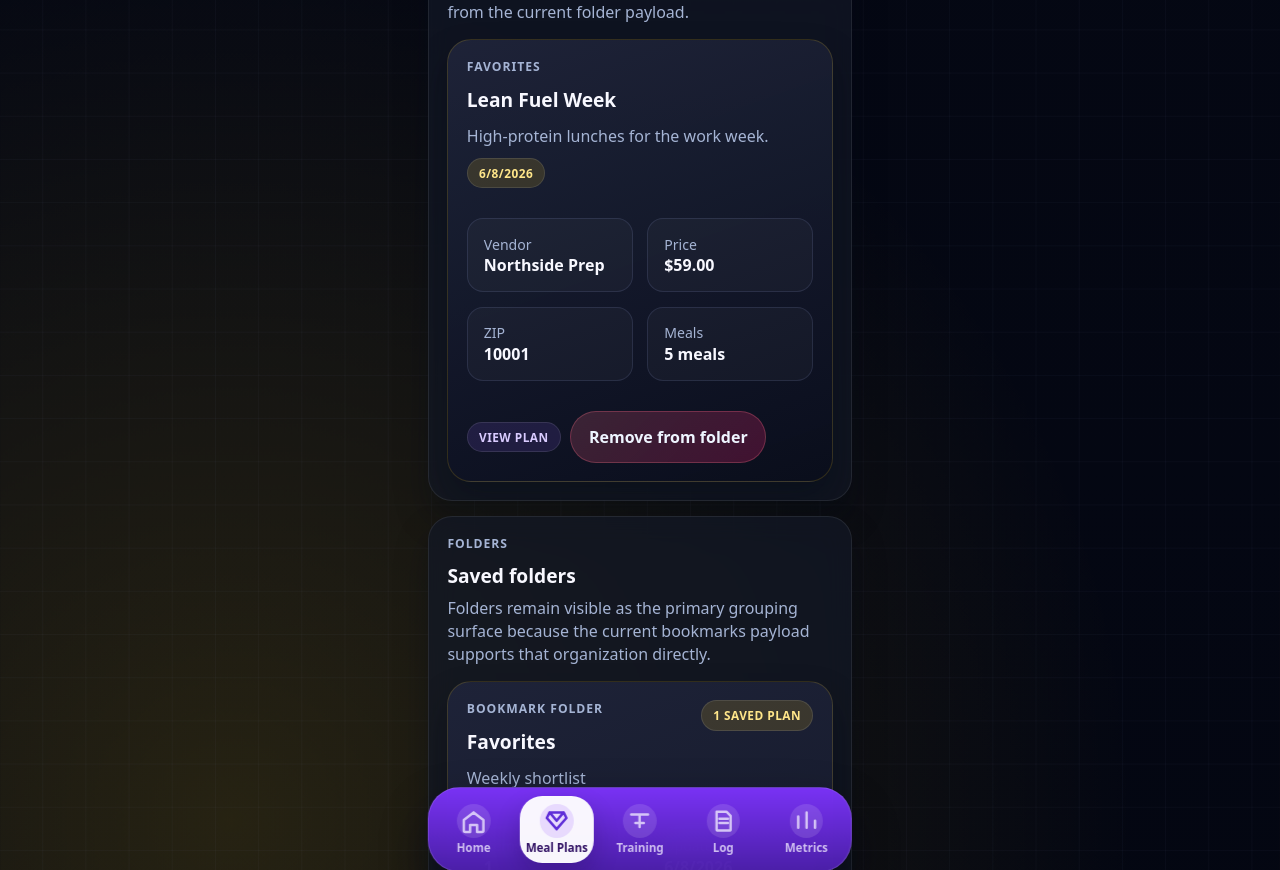
Scenario: ClientBookmarksPage mobile experience › preserves saved-item removal through the existing bookmark-item DELETE route and confirm step
(page scrolled)
Step 1. Click the button "Remove from folder" → coordinates (668, 437), box [570,411,766,462]
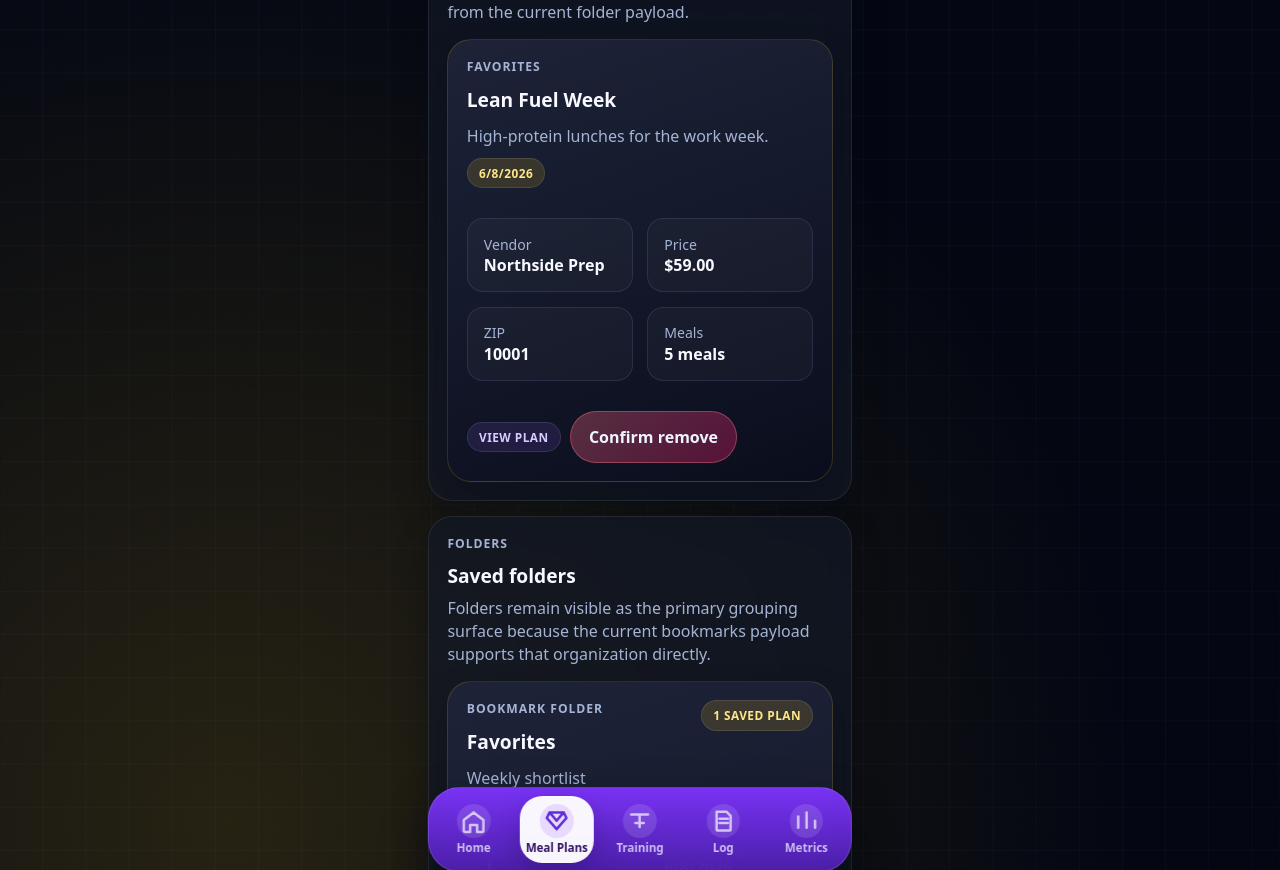
Now the button "Confirm remove" is shown
Step 2. Click the button "Confirm remove" → coordinates (653, 437), box [570,411,737,462]
(page scrolled)
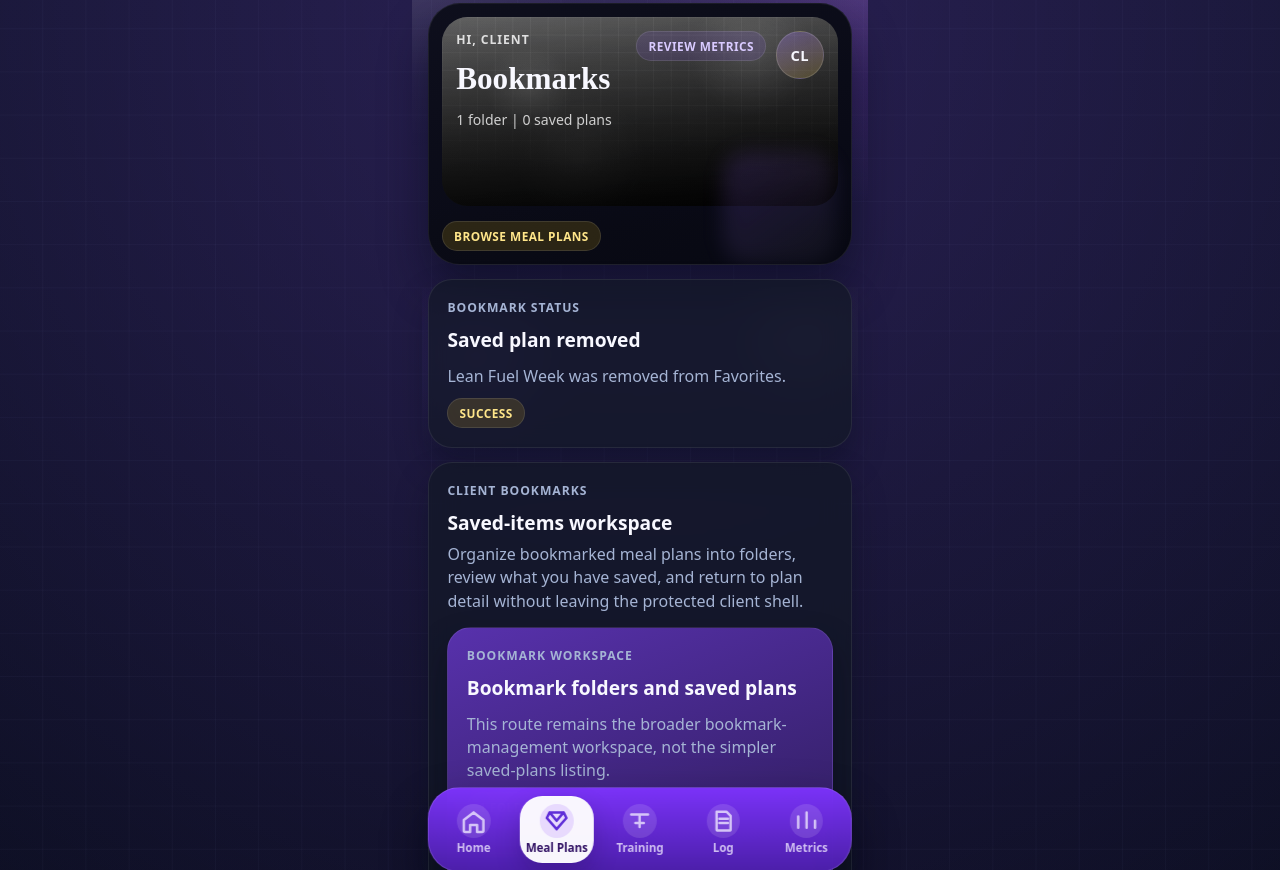
Now the heading "Saved plan removed" is shown, box [447,326,640,353]
